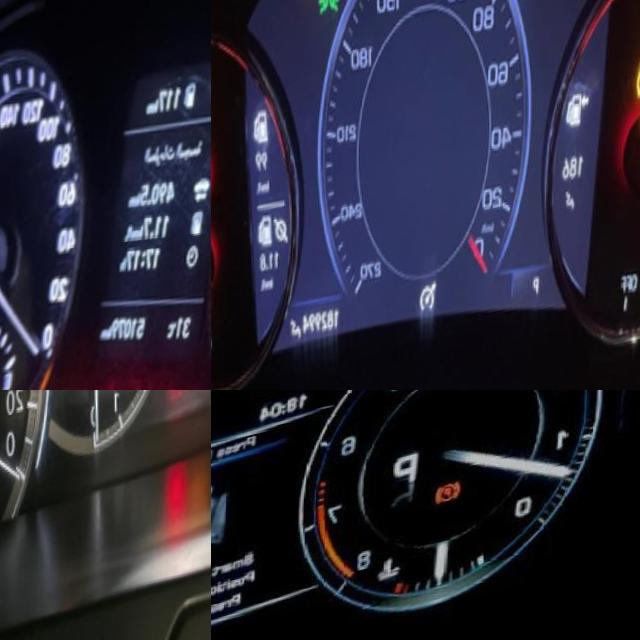Engine cooling system: (386, 562, 415, 595)
